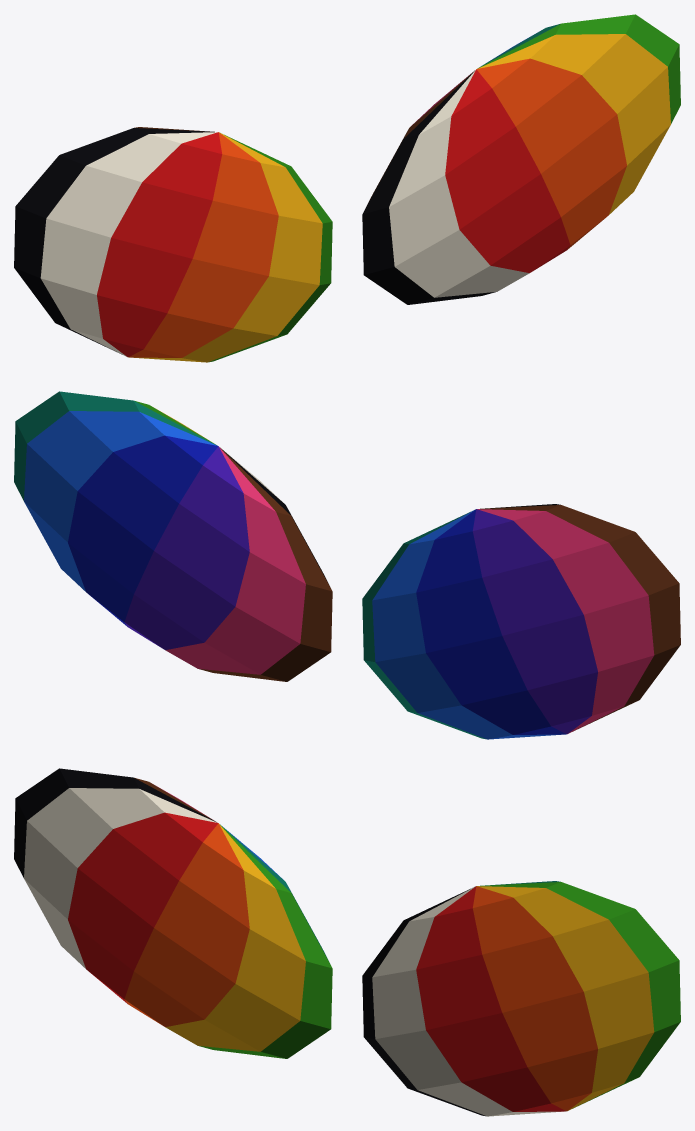
File: SM_Angel_Wings.fbx
3 views of the same model, one above another, from view 1: azimuth 30°, elevation 25°; view 2: azimuth 150°, elevation 25°; view 3: azimuth 330°, elevation 25° (orthographic).
Visible parts, largest first — view 1: SM_Angel_Wings; view 2: SM_Angel_Wings; view 3: SM_Angel_Wings.
Boxes of the visible parts, left/top/right/bottom form: SM_Angel_Wings: left=14, top=14, right=680, bottom=362; SM_Angel_Wings: left=14, top=391, right=680, bottom=739; SM_Angel_Wings: left=14, top=768, right=680, bottom=1116.
Bounding box in the file's own units: 49.79 × 18.05 × 5.
